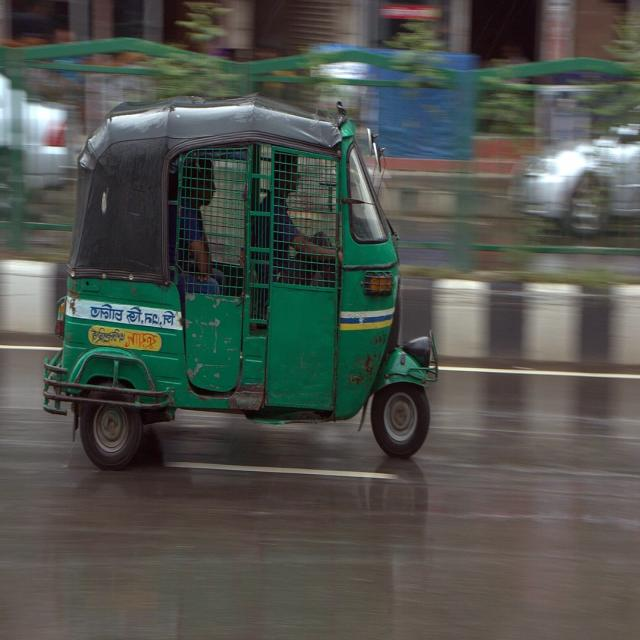CNG: (29, 94, 453, 516)
Car: (501, 85, 640, 262), (1, 45, 100, 235)
